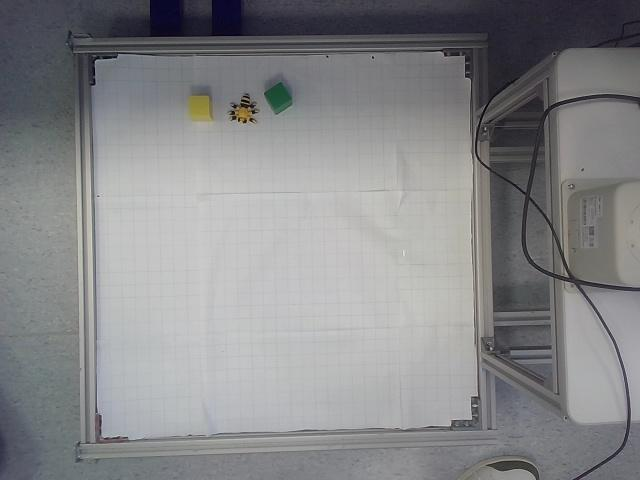frelon: (229, 93, 260, 124)
